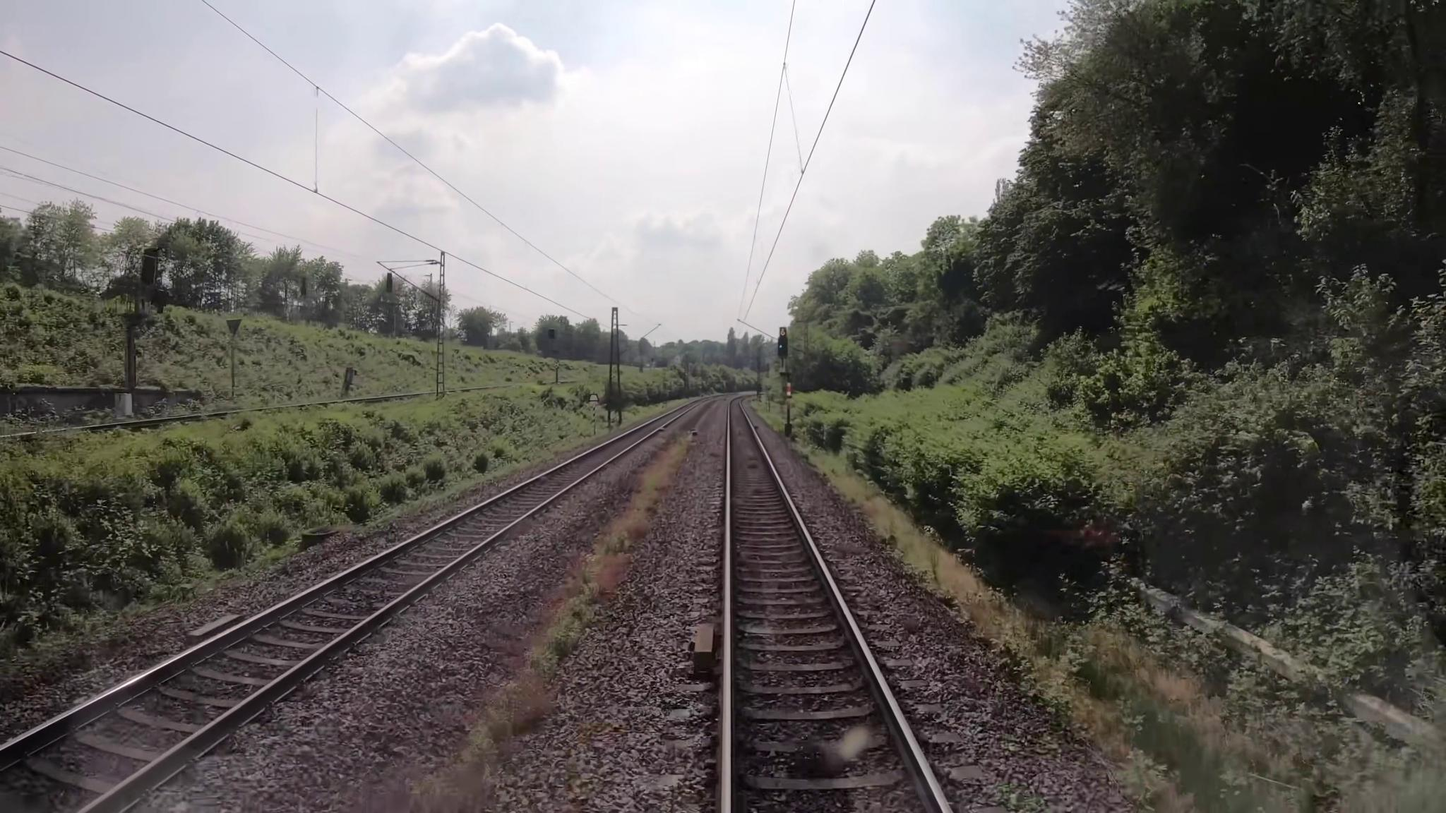Plant: (406, 400, 718, 810)
